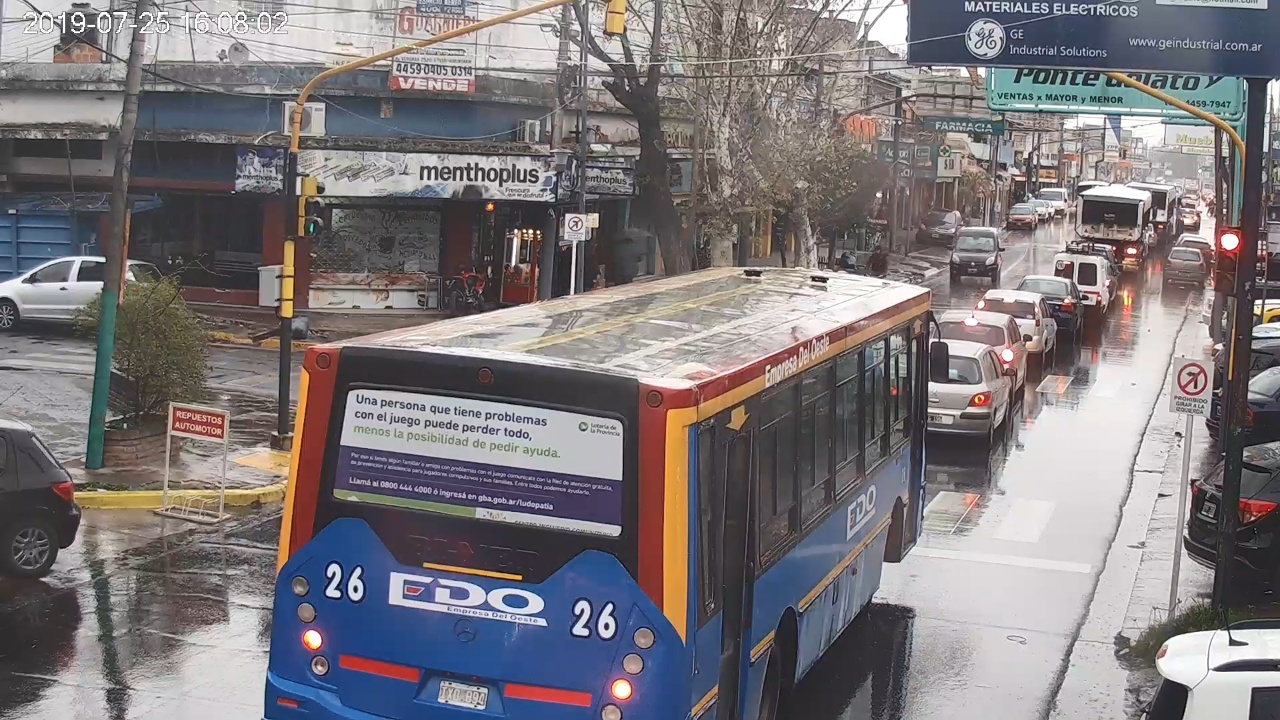bus: (265, 268, 948, 720)
traffic light: (1217, 228, 1239, 293)
